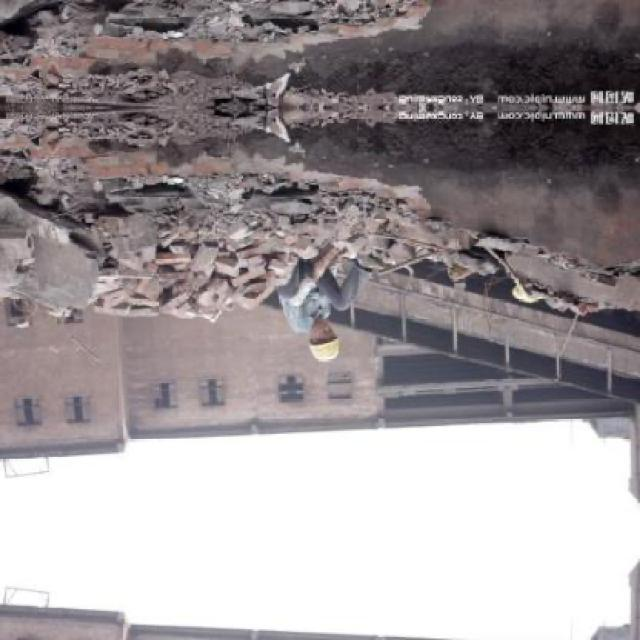con casco: (294, 295, 358, 372)
